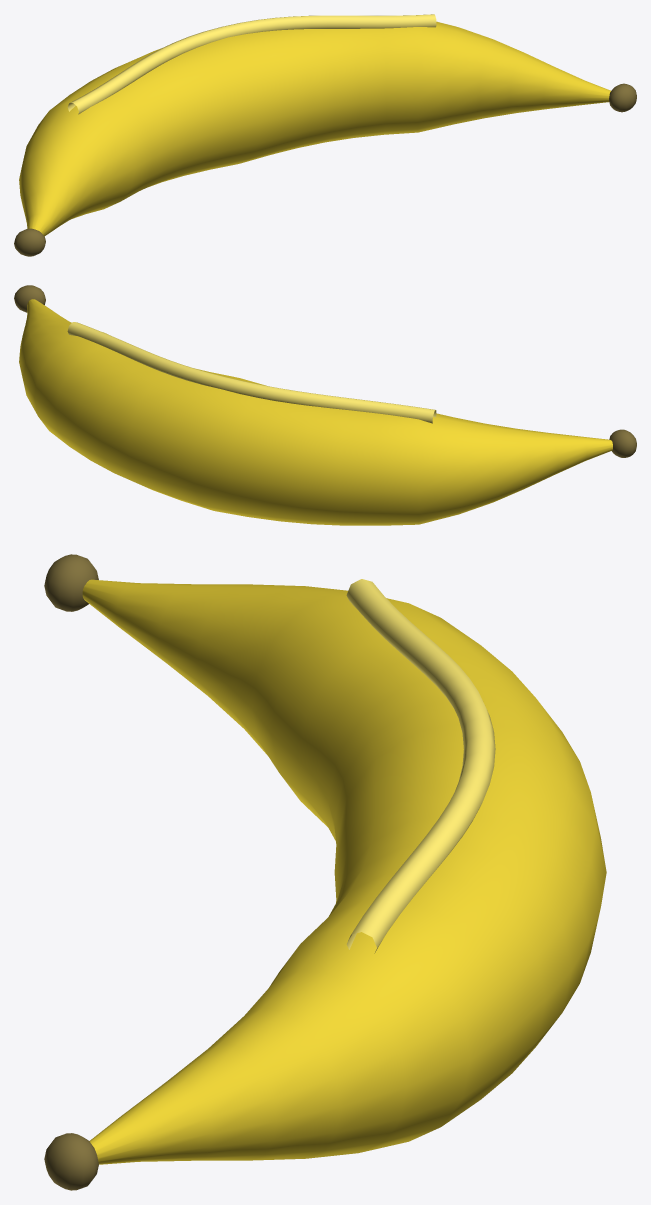
File: banana.glb
3 views of the same model, one above another, from view 1: azimuth 30°, elevation 25°; view 2: azimuth 150°, elevation 25°; view 3: azimuth 270°, elevation 25° (orthographic). The views are drawn at different scales.
Visible parts, largest first — view 1: banana; view 2: banana; view 3: banana.
Boxes of the visible parts, box(x1,y1,x2,y2) form: banana: box(14, 14, 636, 256); banana: box(14, 285, 636, 525); banana: box(44, 554, 606, 1190).
Size of the model in its own units: 1 by 0.2012 by 0.3929.
